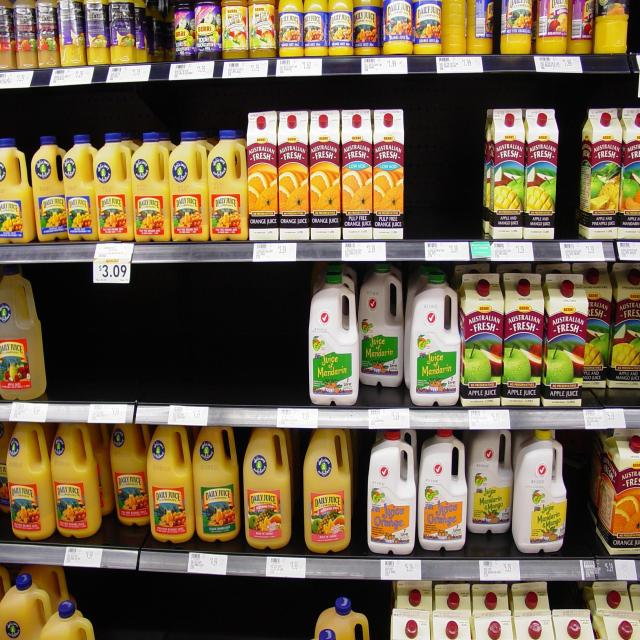empty_space: (45, 281, 304, 394), (102, 585, 304, 640), (416, 109, 475, 240), (559, 109, 582, 232), (573, 443, 597, 550)
